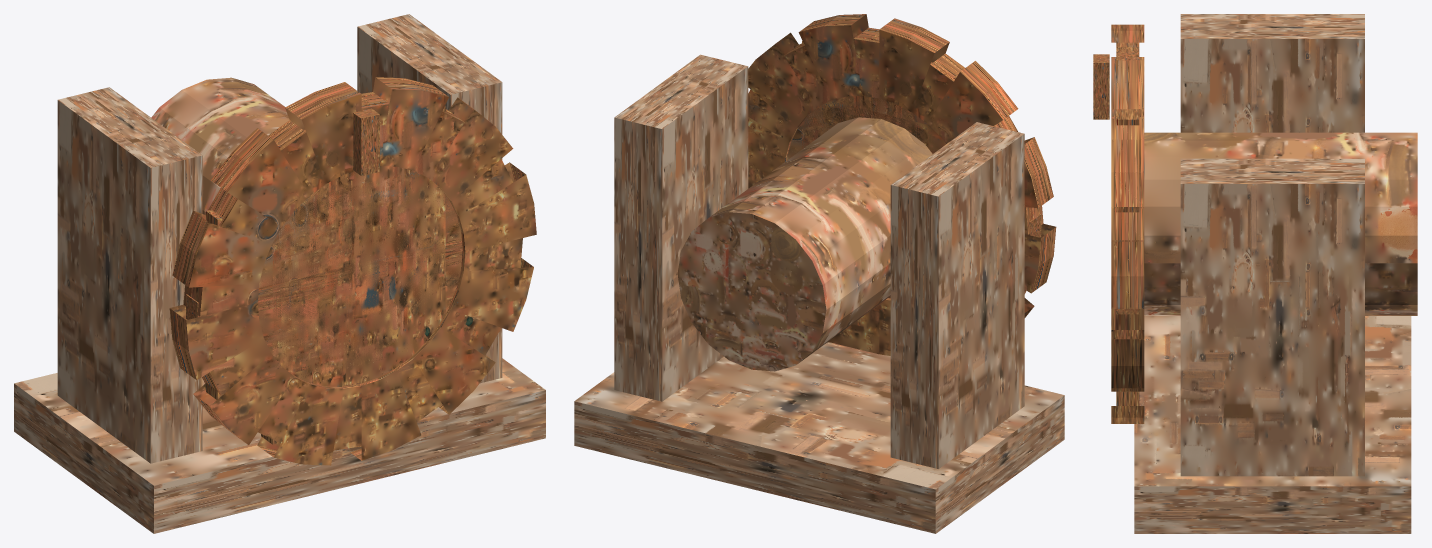
File: M3_潮汐船坞齿轮绞盘.glb
3 renders of one model, left to right at view 1: azimuth 30°, elevation 25°; view 2: azimuth 150°, elevation 25°; view 3: azimuth 270°, elevation 25°, orthographic. The views are drawn at different scales.
Parts seen in each view (by area): view 1: Ring_0, Frame_Base, Core_Spindle; view 2: Frame_Base, Core_Spindle, Ring_0; view 3: Frame_Base, Core_Spindle, Ring_0.
Part boxes in pixels (x1=…): Ring_0: x1=169, y1=77, x2=536, y2=465; Frame_Base: x1=14, y1=14, x2=545, y2=533; Core_Spindle: x1=151, y1=77, x2=289, y2=214; Frame_Base: x1=574, y1=54, x2=1064, y2=533; Core_Spindle: x1=677, y1=117, x2=932, y2=371; Ring_0: x1=748, y1=14, x2=1056, y2=355; Frame_Base: x1=1134, y1=14, x2=1411, y2=533; Core_Spindle: x1=1144, y1=132, x2=1417, y2=315; Ring_0: x1=1093, y1=24, x2=1144, y2=423.
Size of the model in its own units: 0.68 by 0.674 by 0.4925.
Materials: 3 (3 with a texture image).
